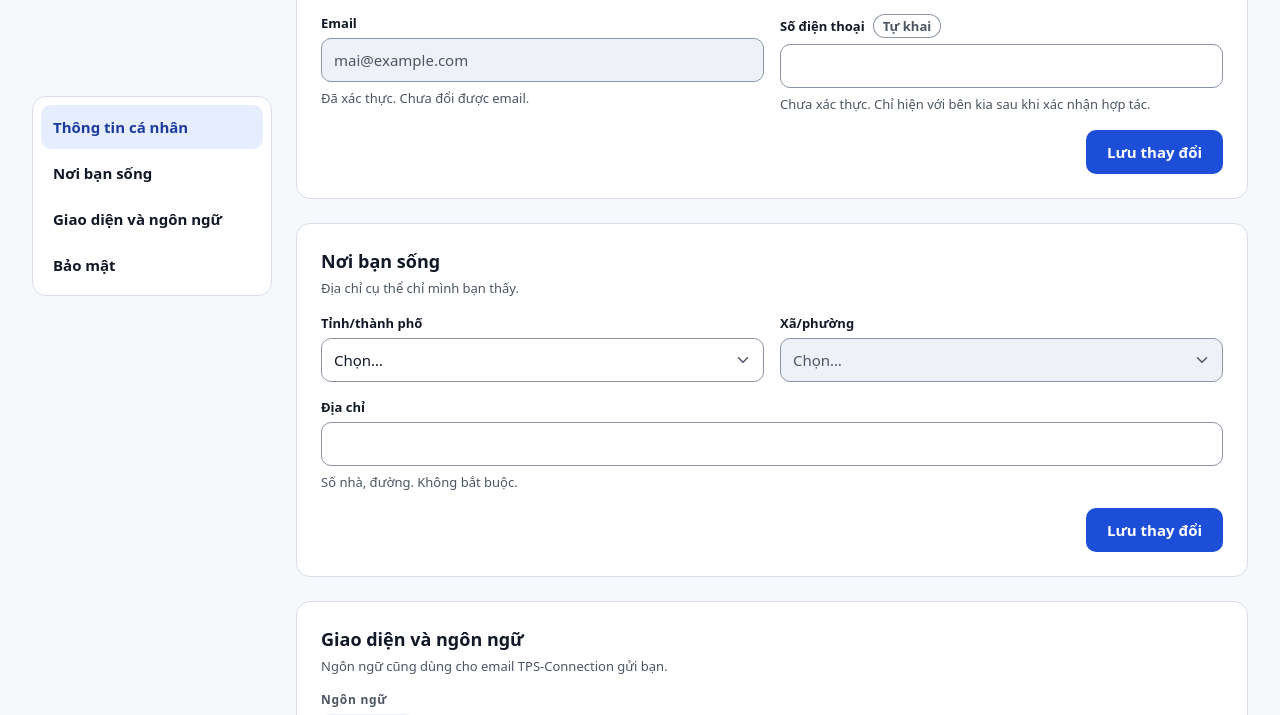
Test: location fields › loads the communes of the chosen province
(page scrolled)
Expected: the dropdown labelled "Xã/phường" is disabled, [780, 338, 1223, 382]
Select "Hà Nội" in the dropdown labelled "Tỉnh/thành phố" at (542,360), box [321, 338, 764, 382]
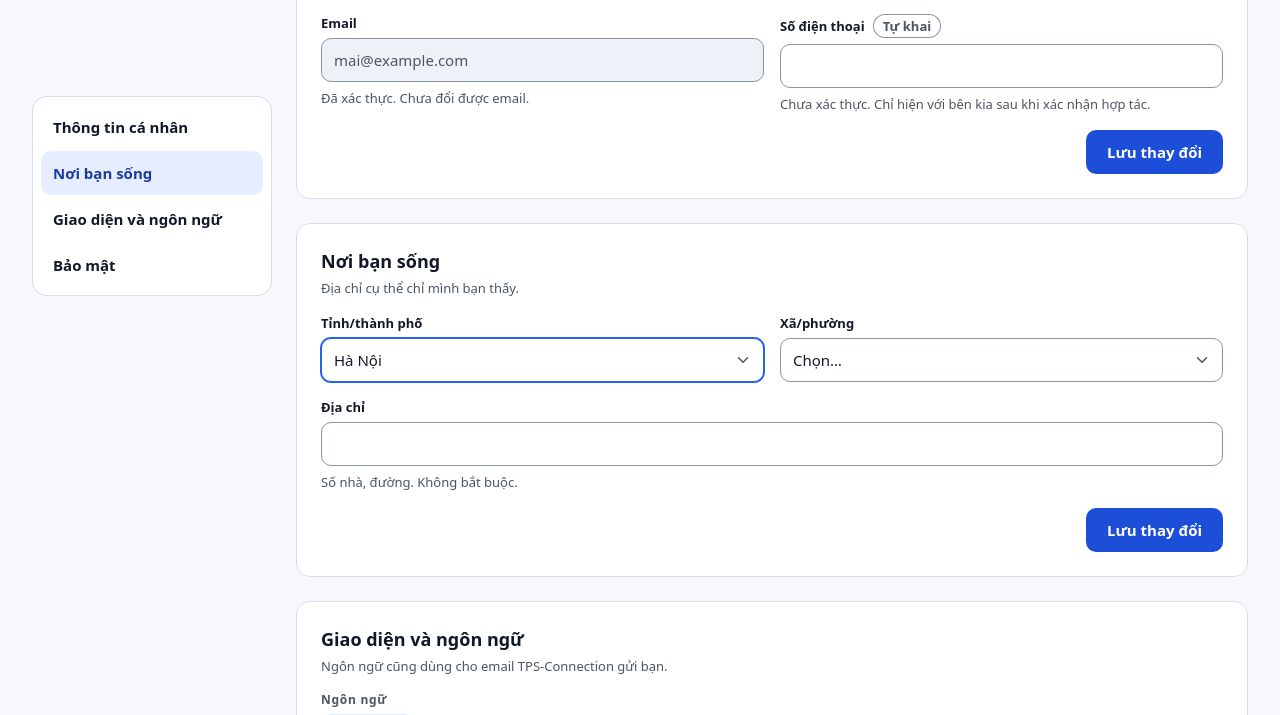
Expected: the dropdown labelled "Xã/phường" is enabled, [780, 338, 1223, 382]
